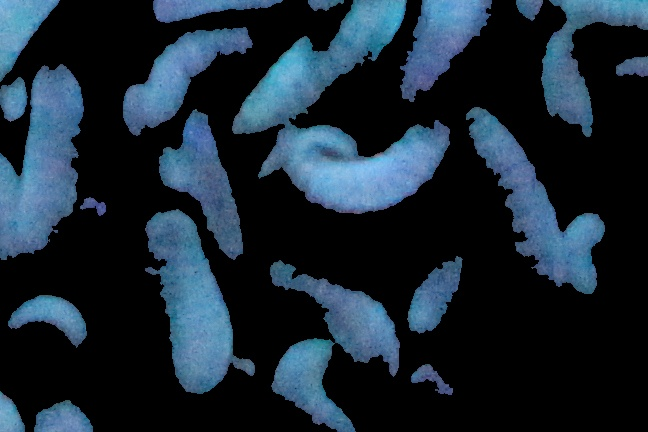larvae: (117, 204, 260, 393), (452, 95, 563, 315), (252, 238, 403, 382), (277, 108, 462, 221), (123, 12, 272, 126), (6, 61, 85, 253), (166, 115, 248, 256), (396, 1, 485, 106), (234, 41, 334, 125), (272, 339, 348, 429), (556, 201, 608, 314), (546, 27, 592, 134), (405, 246, 462, 331), (8, 295, 88, 354)
